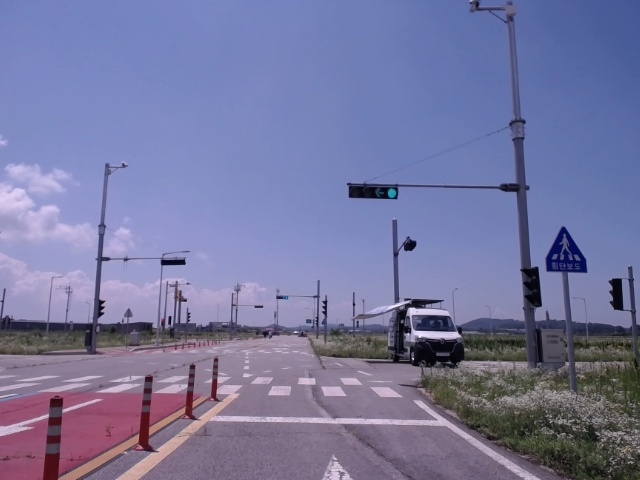all_green_4: (349, 182, 397, 200)
